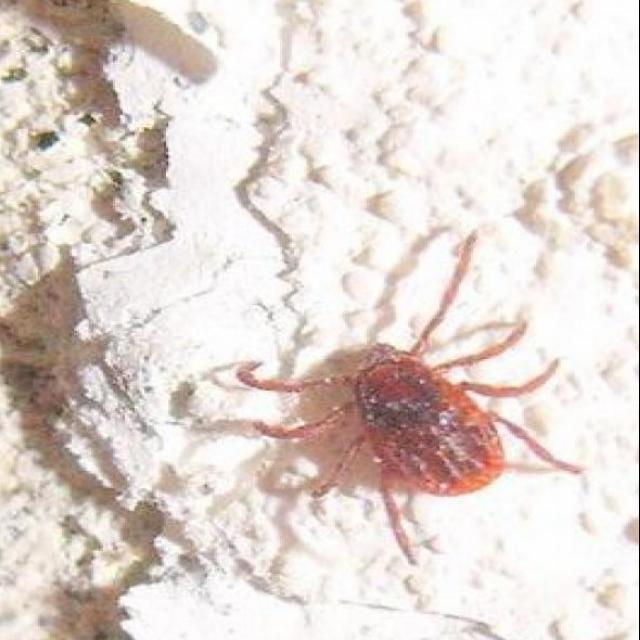Rhipicephalus Sanguineus-F: (237, 235, 583, 567)
